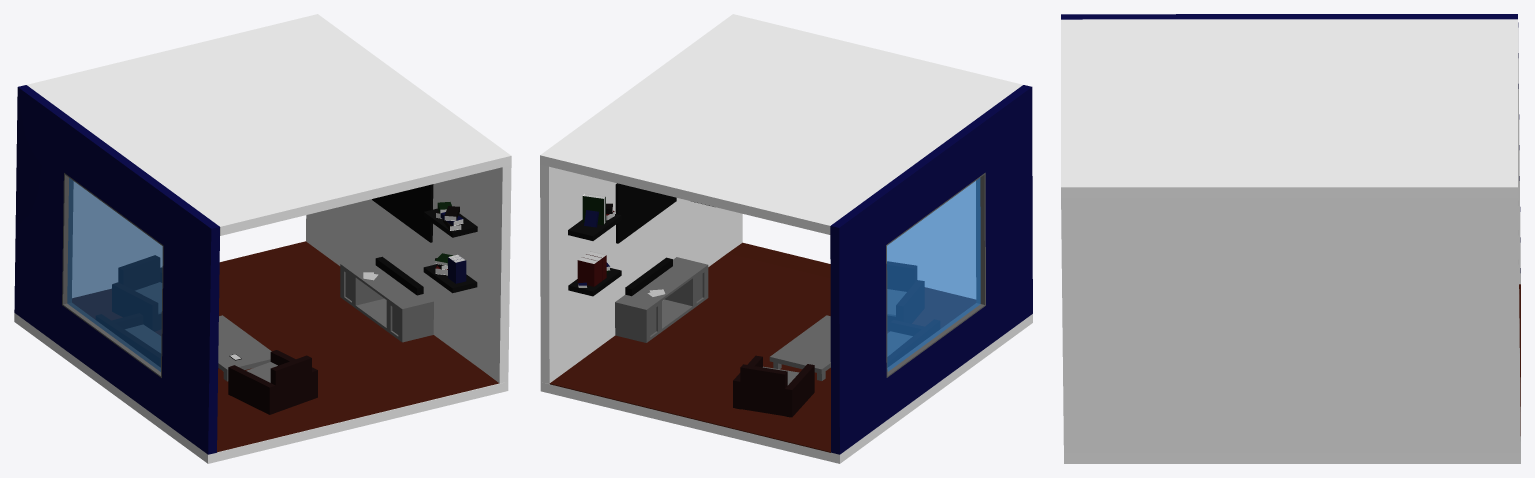
Rendered from opaque.glb.
3 views of the same model, side by side, from view 1: azimuth 30°, elevation 25°; view 2: azimuth 150°, elevation 25°; view 3: azimuth 270°, elevation 25° (orthographic). The views are drawn at different scales.
Visible parts, largest first — view 1: object 2, Cube (×12), object 1, object 189, object 186, object 188; view 2: object 2, Cube (×13), object 1, object 189, object 186, object 188; view 3: object 189, object 2, object 188, object 1.
Boxes of the visible parts, x1,y1,x2,y2 form: object 2: (27, 14, 511, 235); Cube (×12): (62, 173, 498, 452); object 1: (14, 85, 219, 454); object 189: (306, 165, 511, 383); object 186: (67, 178, 162, 371); object 188: (14, 313, 508, 463); object 2: (540, 14, 1022, 234); Cube (×13): (549, 172, 985, 452); object 1: (830, 85, 1032, 454); object 189: (540, 164, 742, 383); object 186: (887, 178, 980, 371); object 188: (540, 314, 1032, 463); object 189: (1061, 198, 1520, 452); object 2: (1061, 19, 1517, 197); object 188: (1064, 453, 1520, 463); object 1: (1061, 14, 1520, 284).
Bounding box in the file's own units: 17.11 × 12.77 × 19.12.
